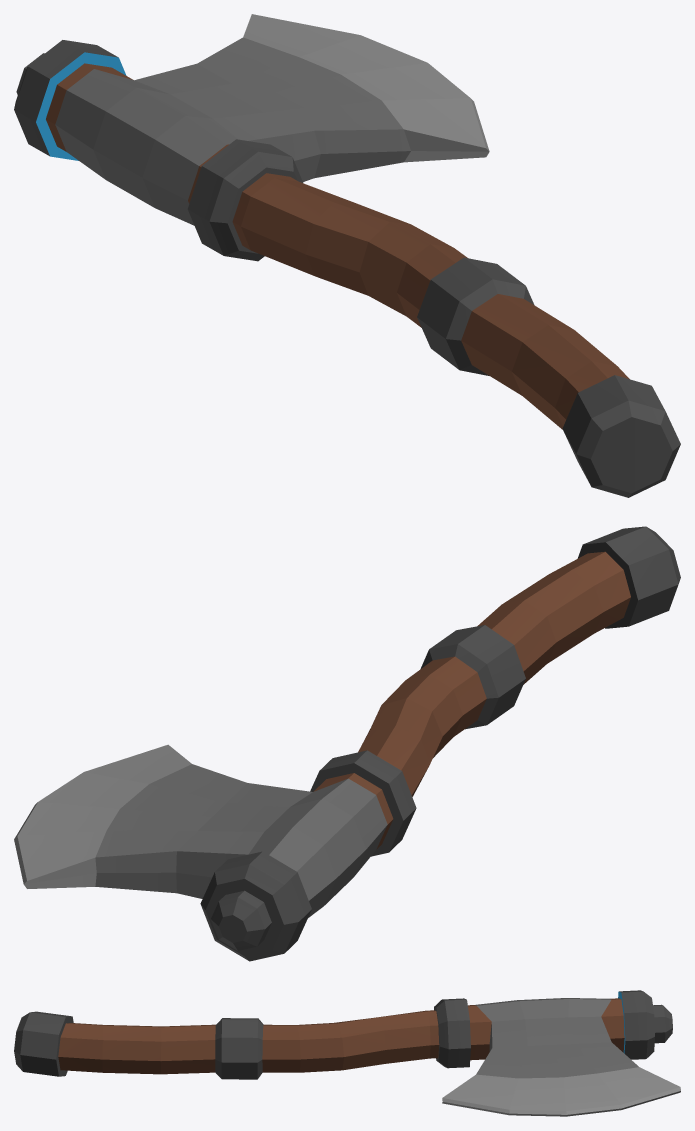
Rendered from axe.fbx.
3 renders of one model, top to bottom at view 1: azimuth 30°, elevation 25°; view 2: azimuth 150°, elevation 25°; view 3: azimuth 270°, elevation 25°, orthographic. The views are drawn at different scales.
Visible parts, largest first — view 1: Axe; view 2: Axe; view 3: Axe.
Part boxes in pixels (bbox=[...]): Axe: bbox=[14, 14, 680, 497]; Axe: bbox=[14, 526, 680, 961]; Axe: bbox=[14, 990, 680, 1116].
Bounding box in the file's own units: 18.98 × 5.58 × 50.61.
1 material, 1 textured.
